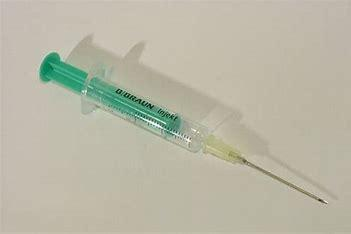Syringe: (33, 48, 336, 210)
